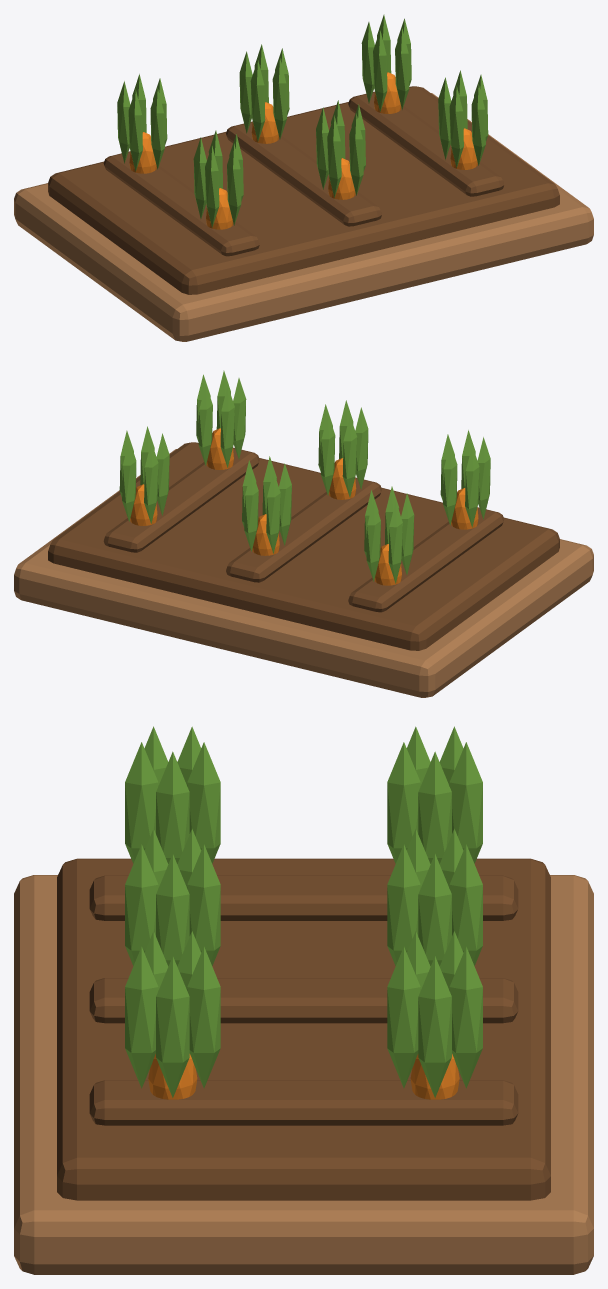
The model's file is plot-carrot.glb.
3 renders of one model, top to bottom at view 1: azimuth 30°, elevation 25°; view 2: azimuth 150°, elevation 25°; view 3: azimuth 270°, elevation 25°, orthographic. The views are drawn at different scales.
Parts seen in each view (by area): view 1: plot_soil, plot_border, plot_ridge, plot_ridge.001, plot_ridge.002, carrot_leaf.013, carrot_leaf.014, carrot_leaf.024, carrot_leaf.009, carrot_leaf.023, carrot_leaf.028, carrot_leaf.029 (+17 smaller); view 2: plot_soil, plot_border, plot_ridge, plot_ridge.001, plot_ridge.002, carrot_leaf.016, carrot_leaf.017, carrot_leaf.026, carrot_leaf.001, carrot_leaf.022, carrot_leaf.027, carrot_leaf.021 (+17 smaller); view 3: plot_soil, plot_border, plot_ridge.002, plot_ridge, plot_ridge.001, carrot_leaf.020, carrot_leaf.025, carrot_leaf.021, carrot_leaf.029, carrot_leaf.024, carrot_leaf.026, carrot_leaf.001 (+13 smaller).
Boxes of the visible parts, <box> form: plot_soil: <box>48,86,559,294</box>; plot_border: <box>14,93,593,341</box>; plot_ridge: <box>103,151,259,256</box>; plot_ridge.001: <box>226,121,381,226</box>; plot_ridge.002: <box>348,91,504,196</box>; carrot_leaf.013: <box>327,115,341,197</box>; carrot_leaf.014: <box>349,113,363,195</box>; carrot_leaf.024: <box>471,84,485,165</box>; carrot_leaf.009: <box>150,87,164,169</box>; carrot_leaf.023: <box>449,86,463,167</box>; carrot_leaf.028: <box>373,30,387,111</box>; carrot_leaf.029: <box>395,28,409,109</box>; plot_soil: <box>48,442,559,650</box>; plot_border: <box>14,449,593,697</box>; plot_ridge: <box>348,507,504,612</box>; plot_ridge.001: <box>226,477,381,582</box>; plot_ridge.002: <box>103,447,259,552</box>; carrot_leaf.016: <box>244,469,258,551</box>; carrot_leaf.017: <box>266,471,280,553</box>; carrot_leaf.026: <box>122,440,136,521</box>; carrot_leaf.001: <box>443,443,457,525</box>; carrot_leaf.022: <box>220,386,234,467</box>; carrot_leaf.027: <box>144,442,158,523</box>; carrot_leaf.021: <box>198,384,212,465</box>; plot_soil: <box>57,858,550,1200</box>; plot_border: <box>14,875,593,1274</box>; plot_ridge.002: <box>89,1080,518,1125</box>; plot_ridge: <box>89,875,518,920</box>; plot_ridge.001: <box>89,978,518,1023</box>; carrot_leaf.020: <box>156,956,189,1097</box>; carrot_leaf.025: <box>418,956,451,1097</box>; carrot_leaf.021: <box>187,947,220,1088</box>; carrot_leaf.029: <box>387,947,420,1088</box>; carrot_leaf.024: <box>125,946,158,1088</box>; carrot_leaf.026: <box>449,946,482,1088</box>; carrot_leaf.001: <box>187,742,220,863</box>.
Bounding box in the file's own units: 1.65 × 0.5845 × 1.15.
